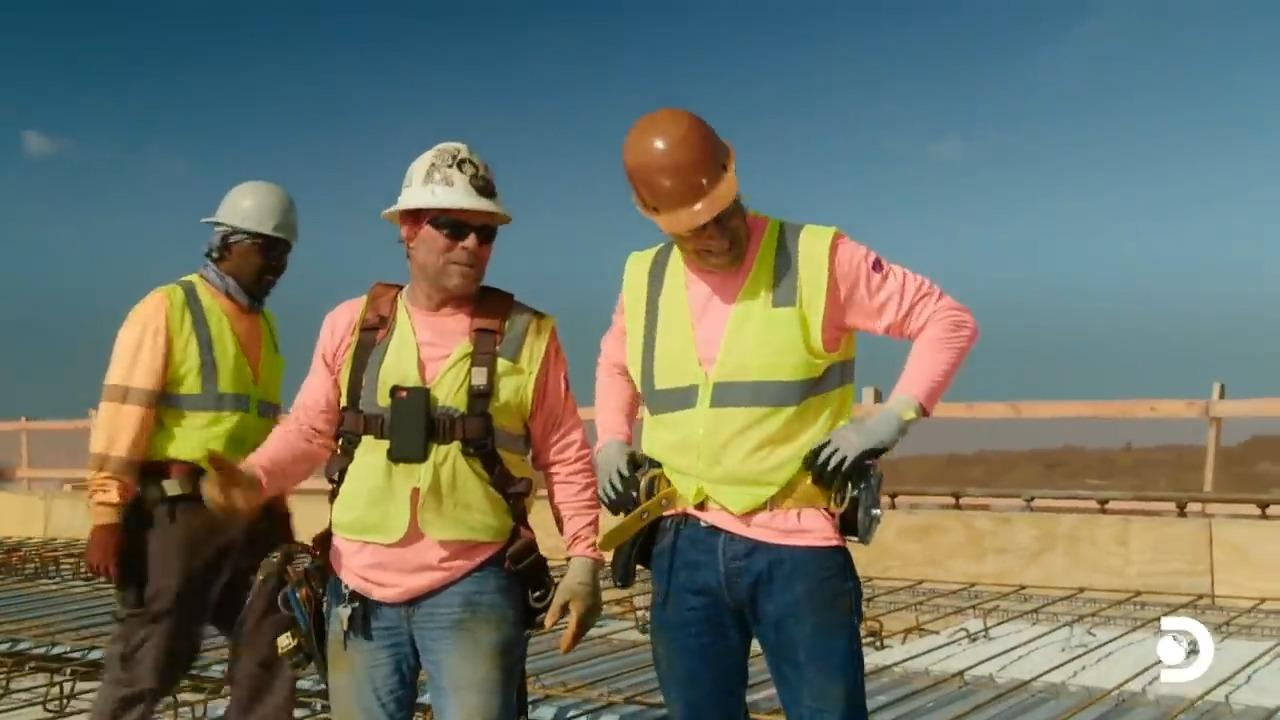Gloves: (802, 407, 914, 478), (187, 453, 259, 520), (589, 434, 645, 511), (78, 522, 133, 581)
Helmet: (622, 107, 738, 237), (380, 140, 511, 226), (199, 179, 297, 247), (546, 566, 601, 647)
Person: (591, 106, 979, 719), (199, 140, 605, 719), (83, 178, 299, 719)
Safety Vest: (632, 266, 837, 496), (347, 322, 522, 544), (160, 315, 290, 463)
